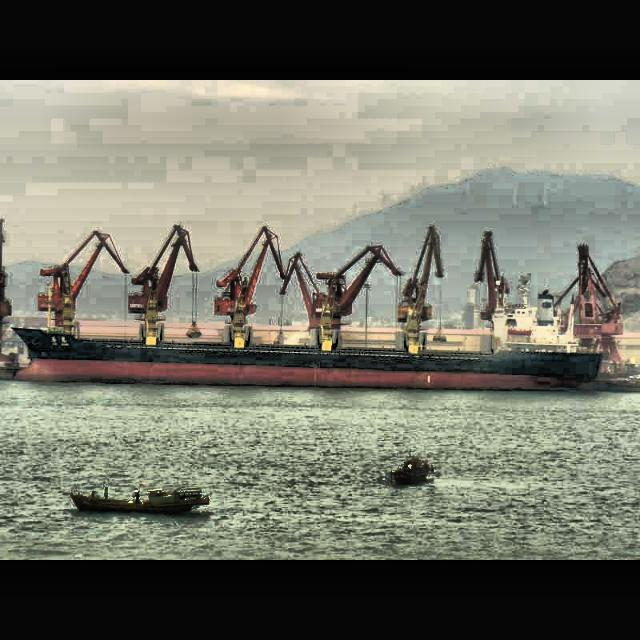bulk_carrier: (10, 228, 604, 394)
